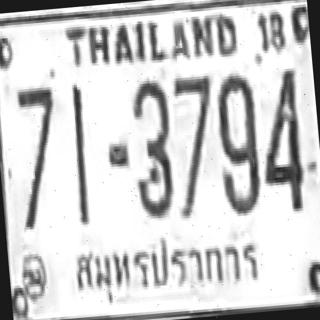N01: (68, 83, 91, 224)
N03: (126, 77, 176, 217)
N04: (254, 65, 305, 211)
N07: (169, 73, 220, 216), (13, 84, 63, 229), (15, 84, 61, 209)
N09: (211, 69, 262, 212)
P57: (68, 220, 265, 314)
